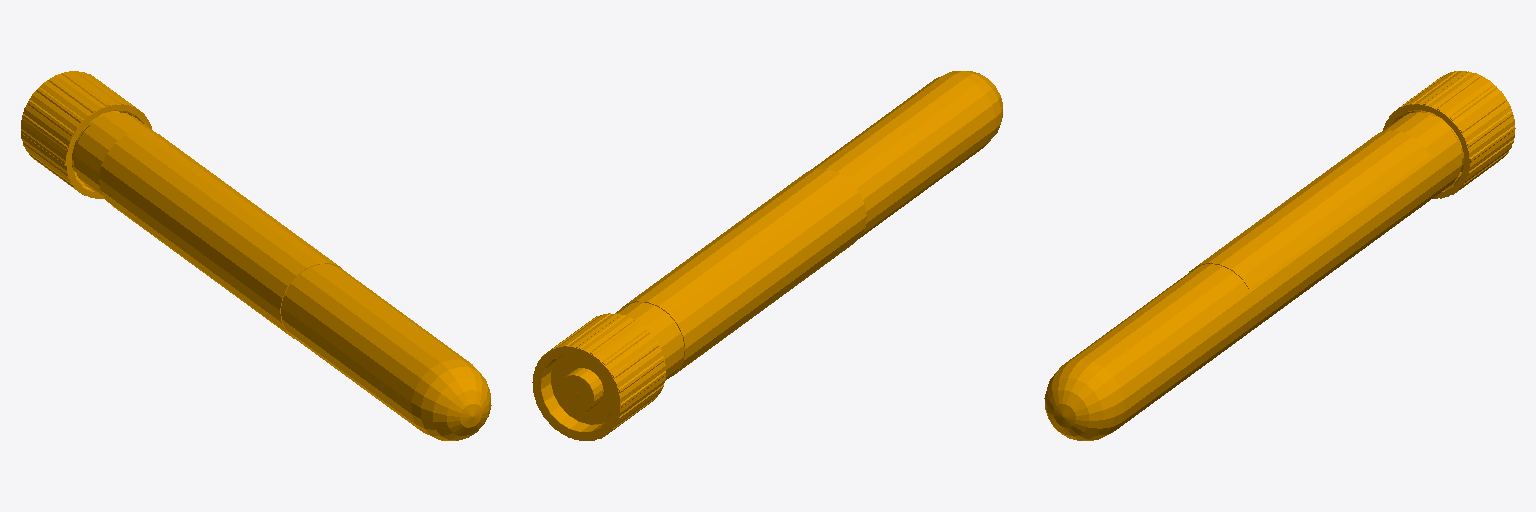
robot.urdf — tube:
<?xml version="1.0"?>
<robot name="tube">
  <link name="base_link">
    <contact>
      <lateral_friction value="1.0"/>
      <rolling_friction value="0.004"/>
      <contact_cfm value="0.0"/>
      <contact_erp value="1.0"/>
    </contact>
    <inertial>
      <mass value="0.025"/>
      <inertia ixx="1" ixy="0" ixz="0" iyy="1" iyz="0" izz="1"/>
    </inertial>
    <visual>
      <geometry>
        <mesh filename="tube.obj"/>
      </geometry>
    </visual>
    <collision>
      <geometry>
        <mesh filename="tube.obj"/>
      </geometry>
    </collision>
  </link>
</robot>

--- Facts derived from the render (not from the file) ---
The picture shows the robot from 3 angles, left to right: view 1: azimuth 30°, elevation 25°; view 2: azimuth 150°, elevation 25°; view 3: azimuth 330°, elevation 25°; orthographic projection.
Robot: tube — 1 links, 0 joints (none); root link base_link; default pose: every joint at zero.
Visible links, largest first — view 1: base_link; view 2: base_link; view 3: base_link.
Boxes of the visible links, x1,y1,x2,y2 form: base_link: (21,71,491,440); base_link: (532,71,1002,440); base_link: (1044,71,1515,440).
Bounding box of the posed robot: 0.01 × 0.0798 × 0.01 m (x, y, z).
Meshes: 1 distinct files referenced, 1 mesh visuals loaded (1 OBJ).